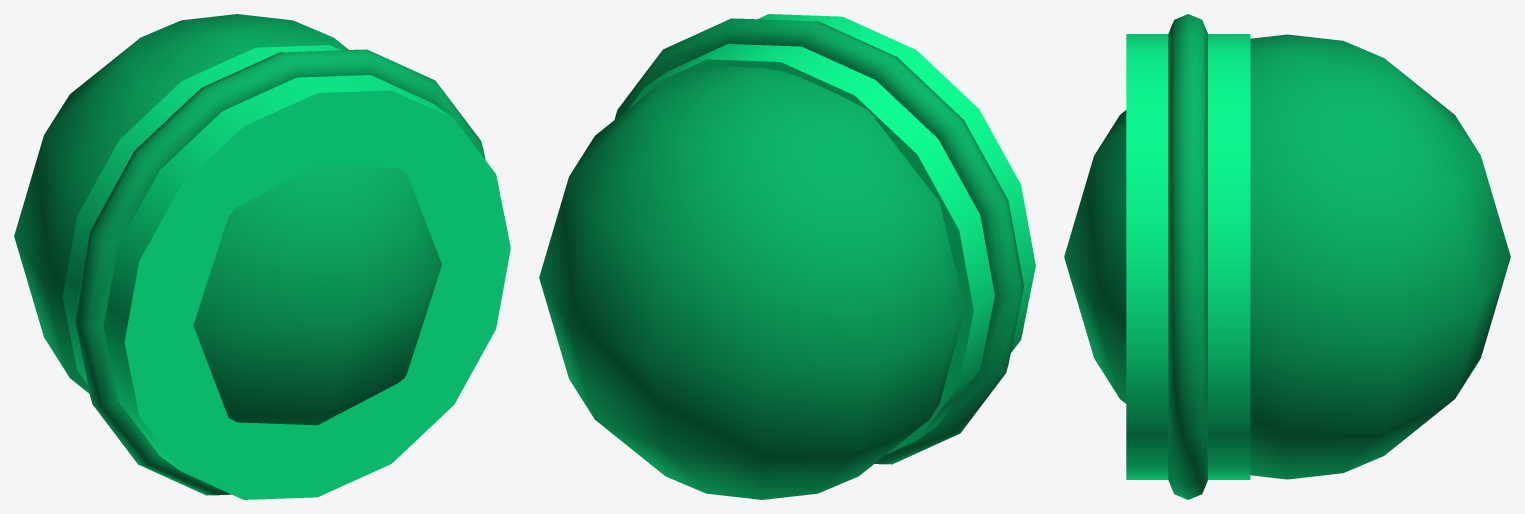
Rendered from lentes_tv_viejo.glb.
3 renders of one model, left to right at view 1: azimuth 30°, elevation 25°; view 2: azimuth 150°, elevation 25°; view 3: azimuth 270°, elevation 25°, orthographic.
Visible parts, largest first — view 1: Detail, Body; view 2: Detail, Body; view 3: Detail, Body.
Part boxes in pixels (left/top/right/bottom): Detail: left=14, top=14, right=485, bottom=495; Body: left=62, top=45, right=510, bottom=499; Detail: left=539, top=18, right=1023, bottom=499; Body: left=628, top=14, right=1035, bottom=454; Detail: left=1064, top=14, right=1510, bottom=499; Body: left=1126, top=34, right=1250, bottom=479.
Bounding box in the file's own units: 0.196 × 0.196 × 0.18.
